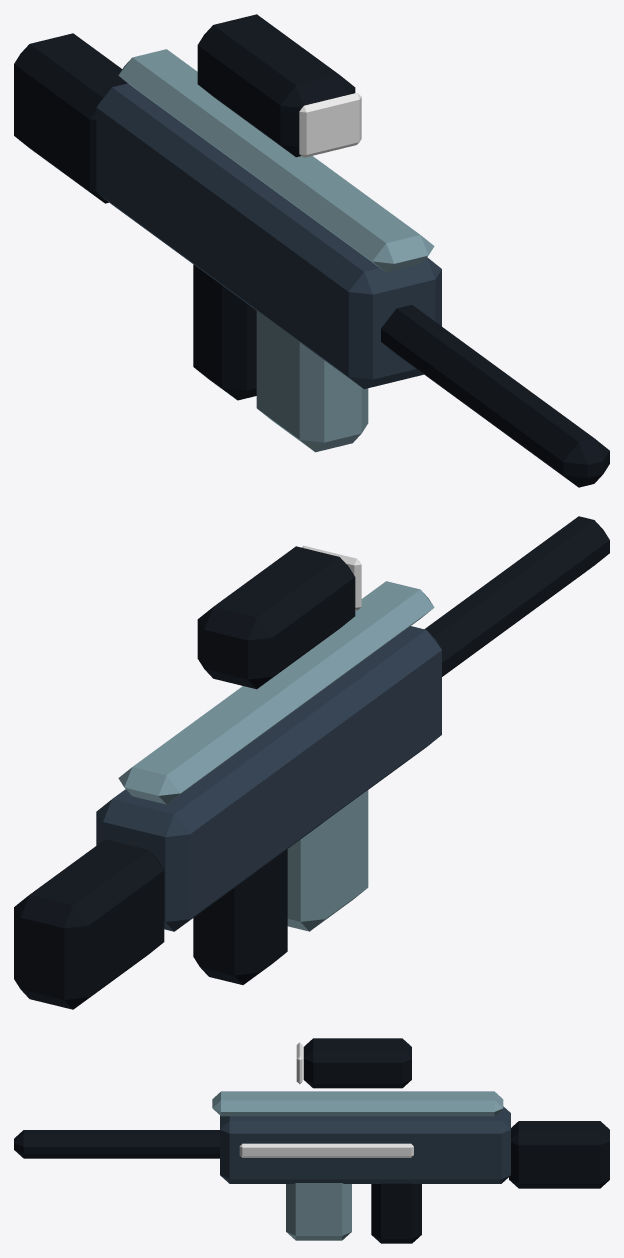
The model's file is Longshot.fbx.
3 renders of one model, top to bottom at view 1: azimuth 30°, elevation 25°; view 2: azimuth 150°, elevation 25°; view 3: azimuth 270°, elevation 25°, orthographic. The views are drawn at different scales.
Parts seen in each view (by area): view 1: Longshot_Mesh; view 2: Longshot_Mesh; view 3: Longshot_Mesh.
Boxes of the visible parts, bbox=[...] form: Longshot_Mesh: bbox=[14, 14, 609, 487]; Longshot_Mesh: bbox=[14, 516, 609, 1009]; Longshot_Mesh: bbox=[14, 1038, 609, 1243].
Bounding box in the file's own units: 16.55 × 55.5 × 154.
